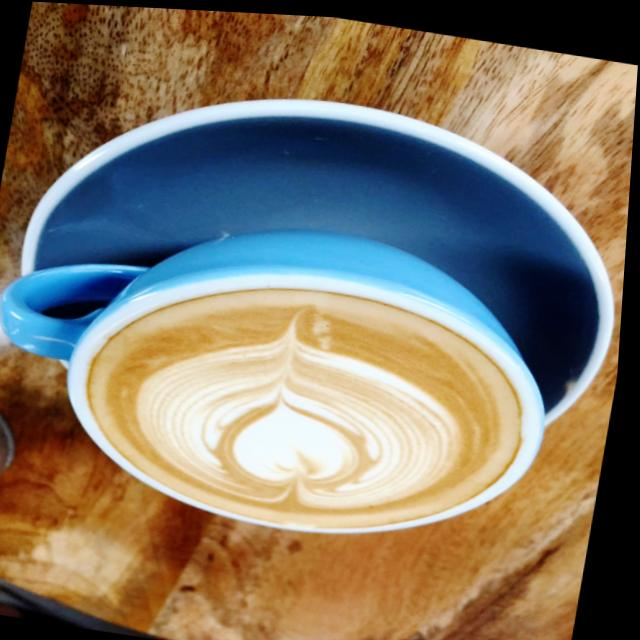drink: (0, 232, 545, 532)
